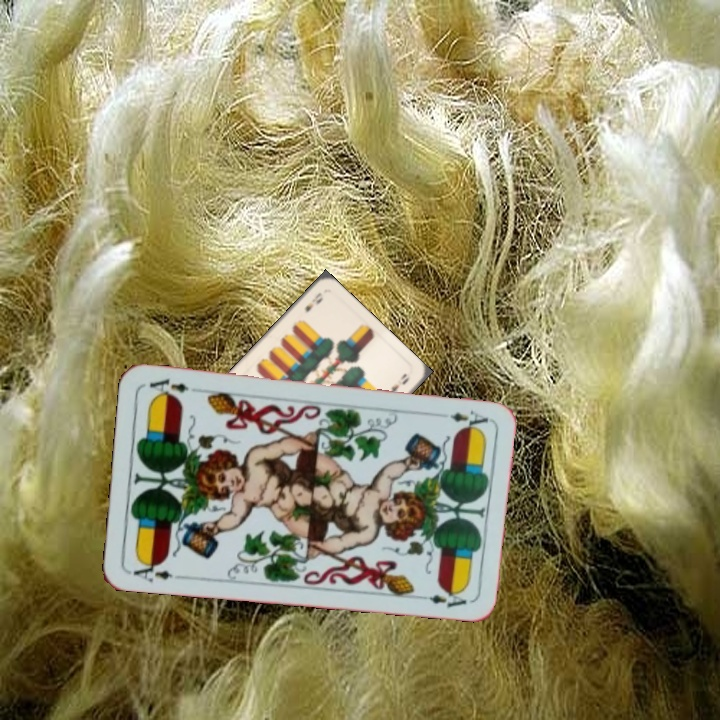E9: (301, 288, 326, 314)
EA: (129, 556, 175, 585), (446, 406, 491, 427)
